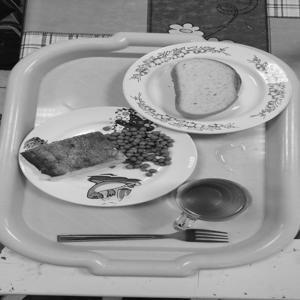bread: (164, 54, 245, 126)
casserole: (21, 101, 172, 200)
tea: (171, 168, 258, 242)
